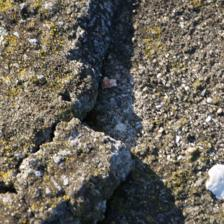Crack: (24, 22, 126, 140), (2, 27, 72, 125), (77, 27, 147, 97)
